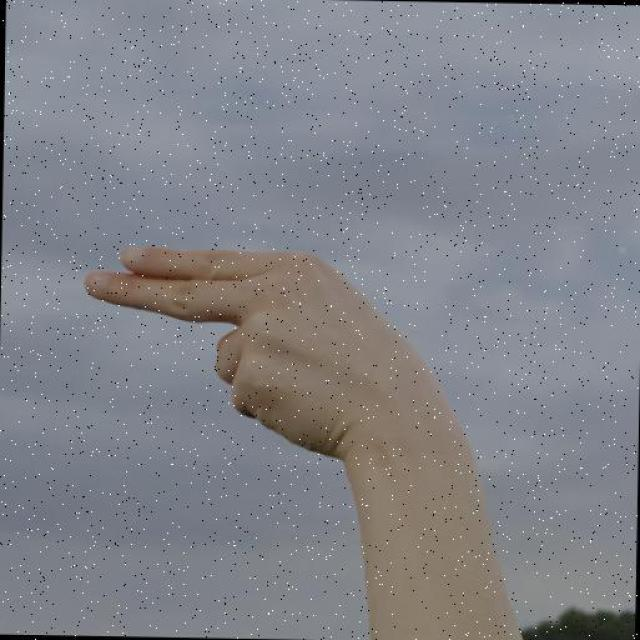H: (77, 243, 484, 466)
